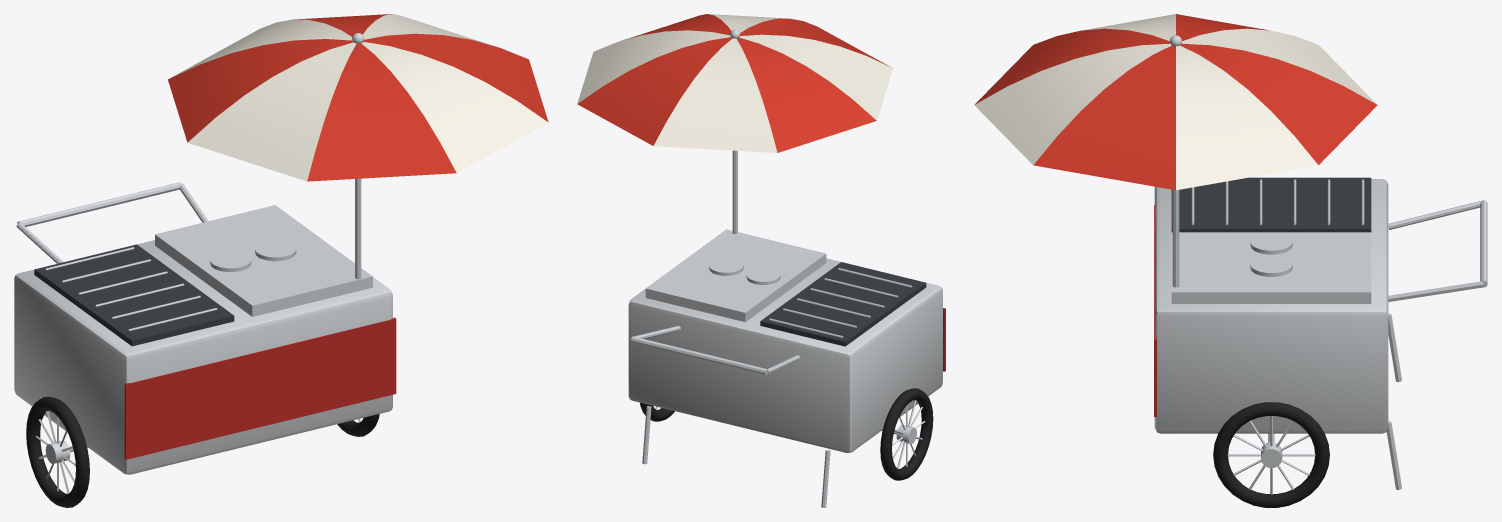
Rendered from food-cart.glb.
The picture shows the model from 3 angles, left to right: view 1: azimuth 30°, elevation 25°; view 2: azimuth 150°, elevation 25°; view 3: azimuth 270°, elevation 25°; orthographic projection. The views are drawn at different scales.
Parts seen in each view (by area): view 1: Food_Cart; view 2: Food_Cart; view 3: Food_Cart.
Part boxes in pixels (<box>): Food_Cart: <box>14,14,548,507</box>; Food_Cart: <box>577,14,945,507</box>; Food_Cart: <box>974,14,1487,507</box>.
Size of the model in its own units: 2.4 by 2.35 by 2.42.
Materials: 5 (1 with a texture image).
